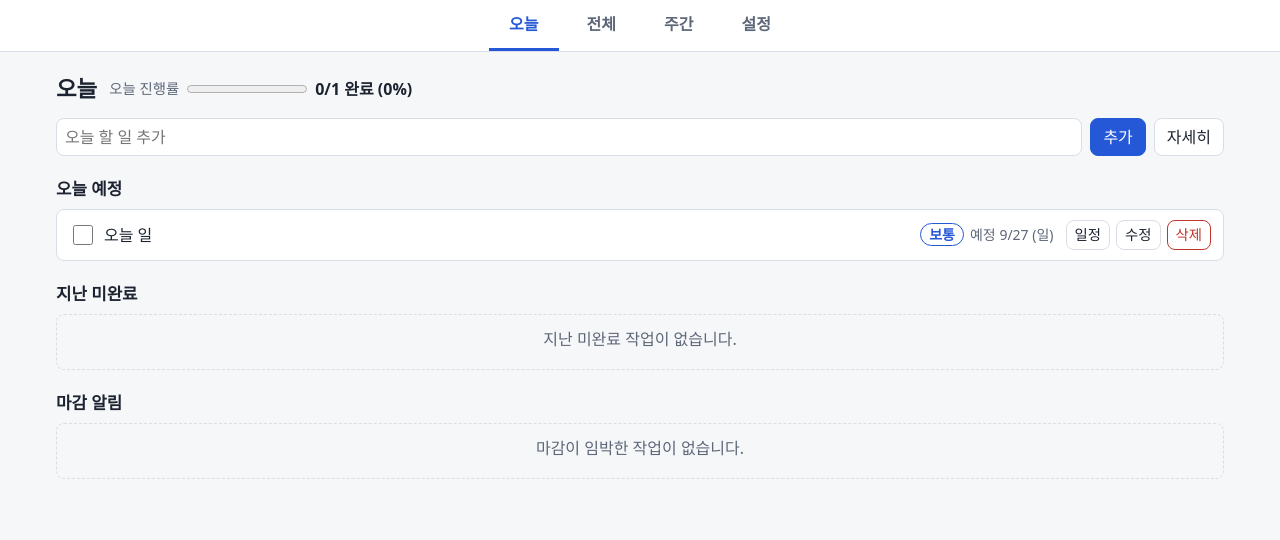
Test: 일정 메뉴 (AC27) › 실행 예정일을 해제하면 미계획이 되어 오늘 진행률에서 빠진다
The width and height of the screenshot is (1280, 540).
Expected: the text with test id "progress-오늘 진행률" reads "0/1 완료 (0%)", left=315, top=78, right=412, bottom=100
Click the button with aria-label "오늘 일 실행 예정일 변경": (1088, 235) left=1066, top=220, right=1110, bottom=250
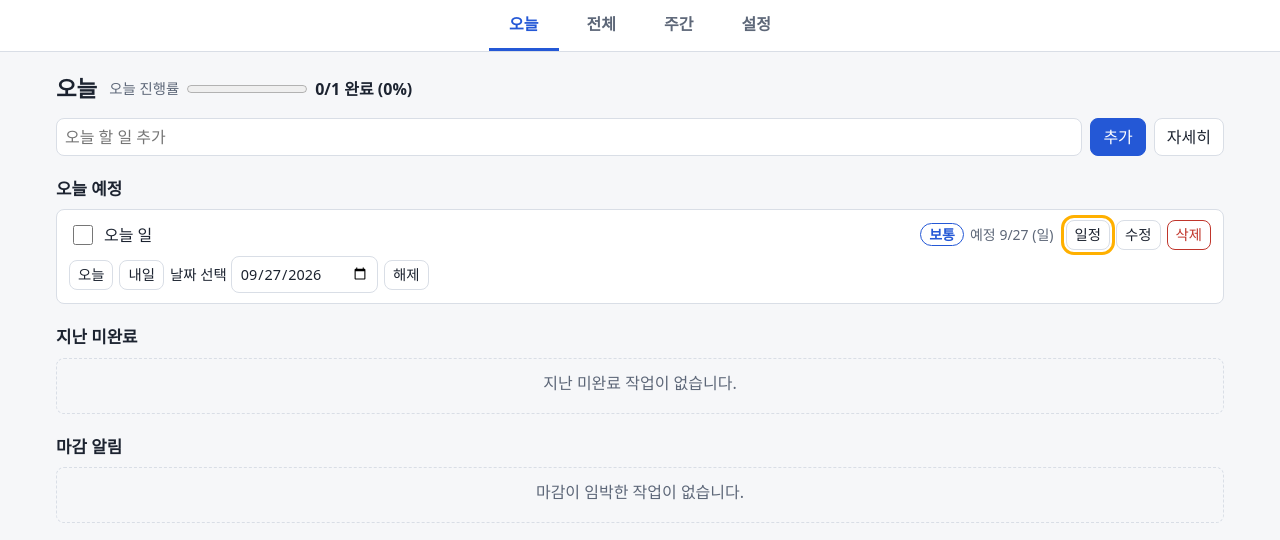
Click the button "해제": (406, 275) left=384, top=260, right=429, bottom=290
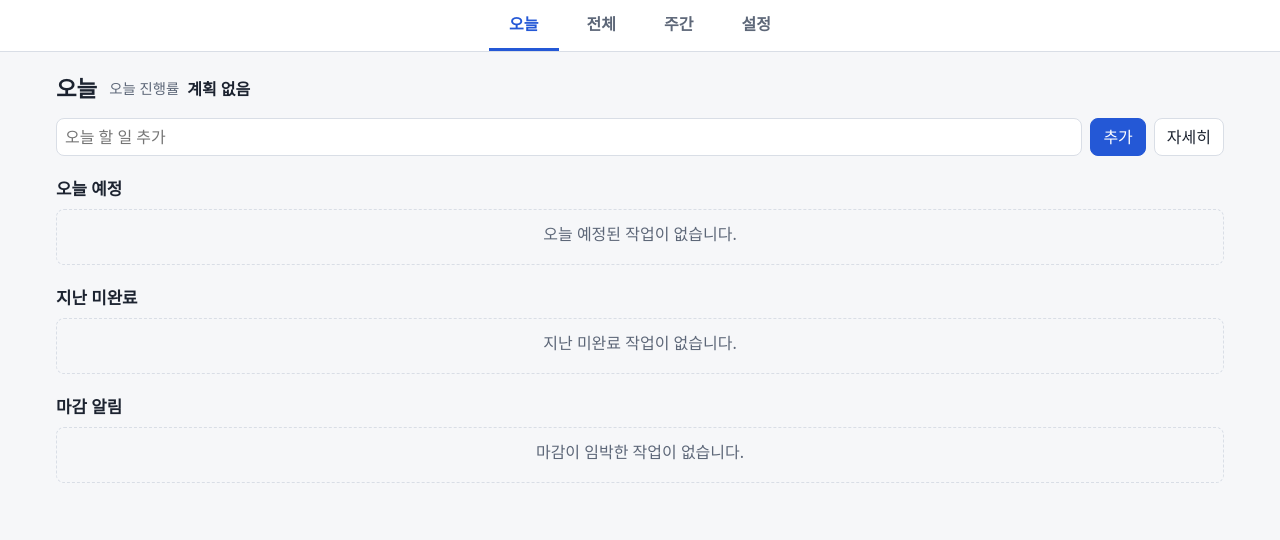
Now the text with test id "progress-오늘 진행률" reads "계획 없음", box left=187, top=78, right=250, bottom=100
